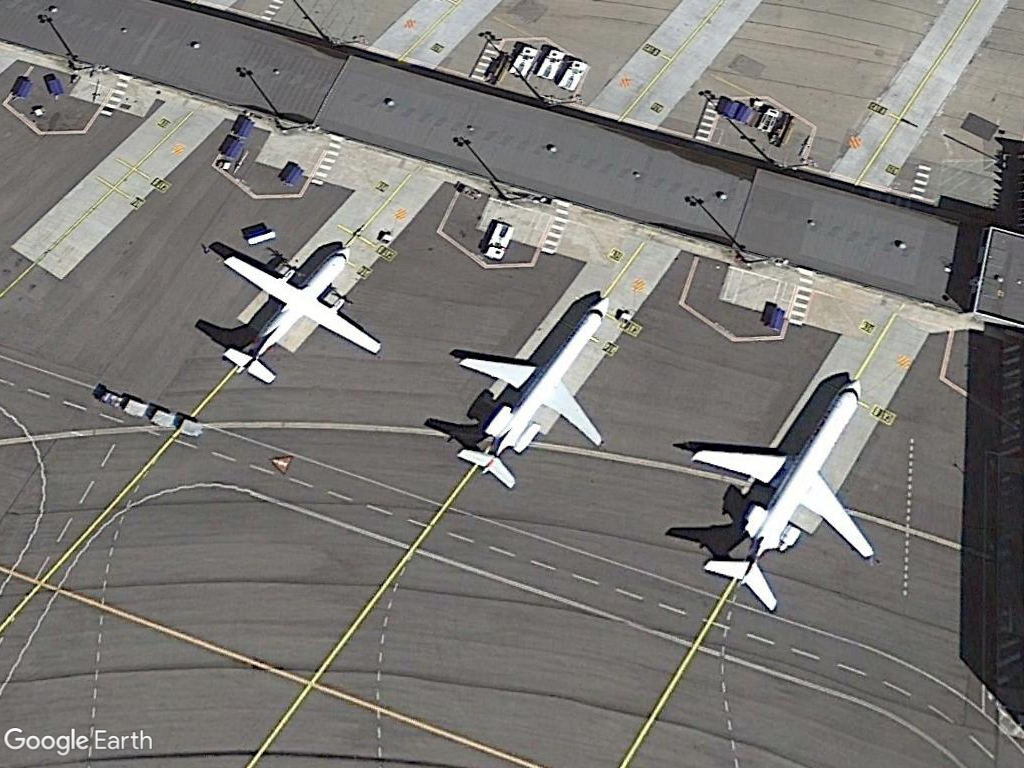chartered: (684, 352, 884, 617), (458, 272, 611, 493)
propeller: (214, 228, 385, 392)
